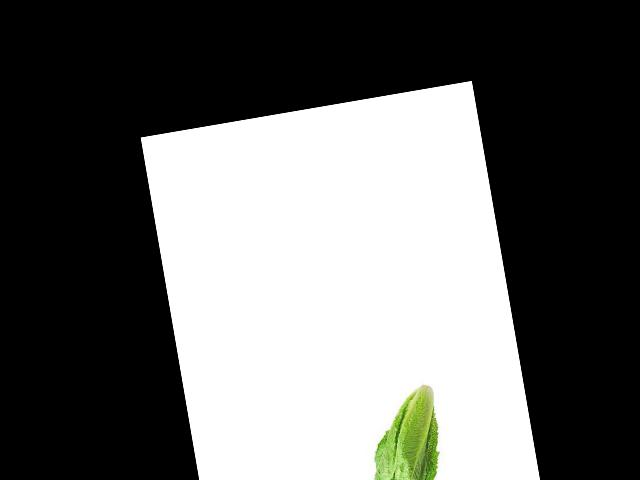lettuce: (360, 378, 456, 480)
